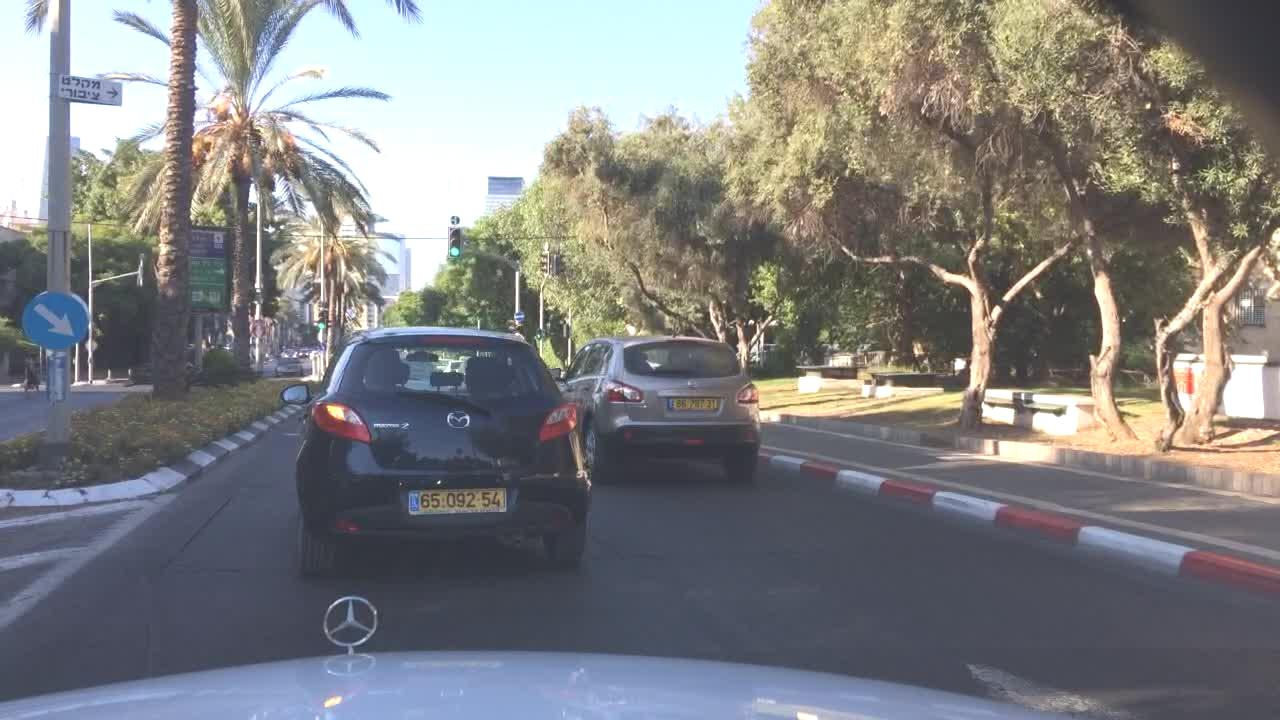Mazda: (440, 404, 478, 434)
Mercedes: (316, 587, 393, 656)
